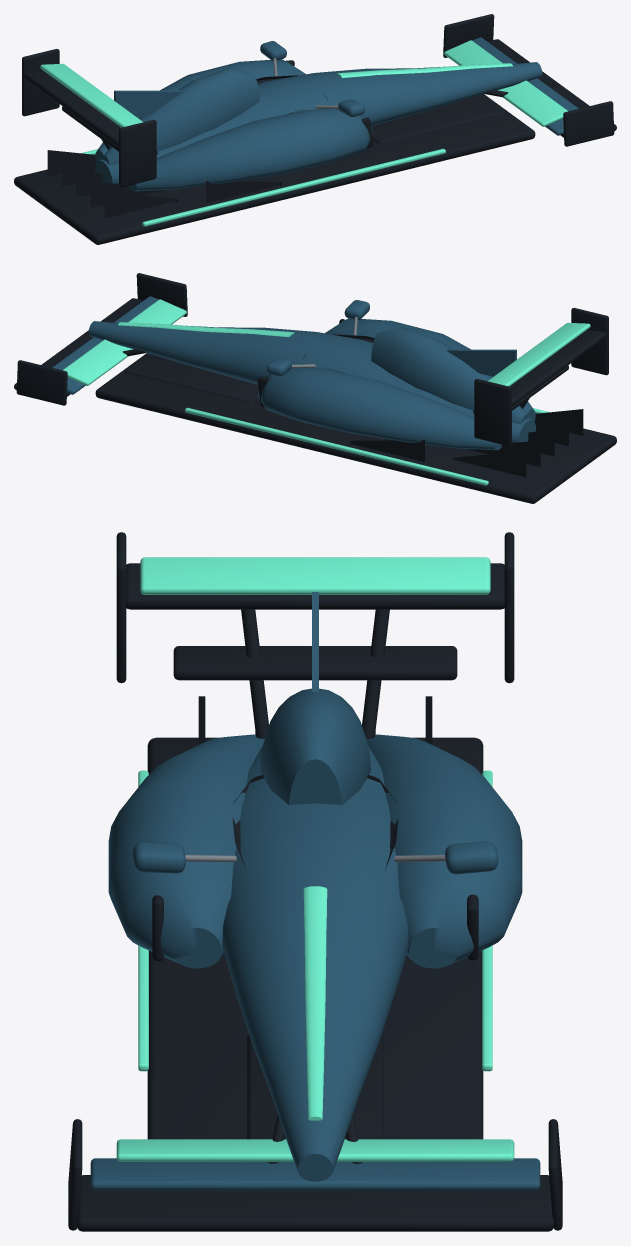
The model's file is formula_car_premium_original.glb.
3 views of the same model, one above another, from view 1: azimuth 30°, elevation 25°; view 2: azimuth 150°, elevation 25°; view 3: azimuth 270°, elevation 25° (orthographic). The views are drawn at different scales.
Parts seen in each view (by area): view 1: Paint_PremiumFormulaBody, Carbon_PremiumAero, Accent_PremiumLivery; view 2: Paint_PremiumFormulaBody, Carbon_PremiumAero, Accent_PremiumLivery; view 3: Paint_PremiumFormulaBody, Carbon_PremiumAero, Accent_PremiumLivery.
Boxes of the visible parts, left/top/right/bottom form: Paint_PremiumFormulaBody: left=40, top=37, right=578, bottom=191; Carbon_PremiumAero: left=14, top=14, right=616, bottom=244; Accent_PremiumLivery: left=81, top=40, right=567, bottom=226; Paint_PremiumFormulaBody: left=52, top=296, right=590, bottom=450; Carbon_PremiumAero: left=14, top=273, right=616, bottom=503; Accent_PremiumLivery: left=63, top=299, right=549, bottom=485; Paint_PremiumFormulaBody: left=90, top=557, right=540, bottom=1190; Carbon_PremiumAero: left=68, top=532, right=562, bottom=1231; Accent_PremiumLivery: left=116, top=770, right=514, bottom=1161.
Size of the model in its own units: 4.92 by 1.11 by 2.09.
